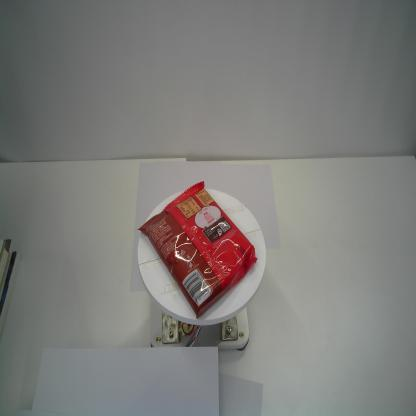Dessert: (136, 180, 258, 321)
